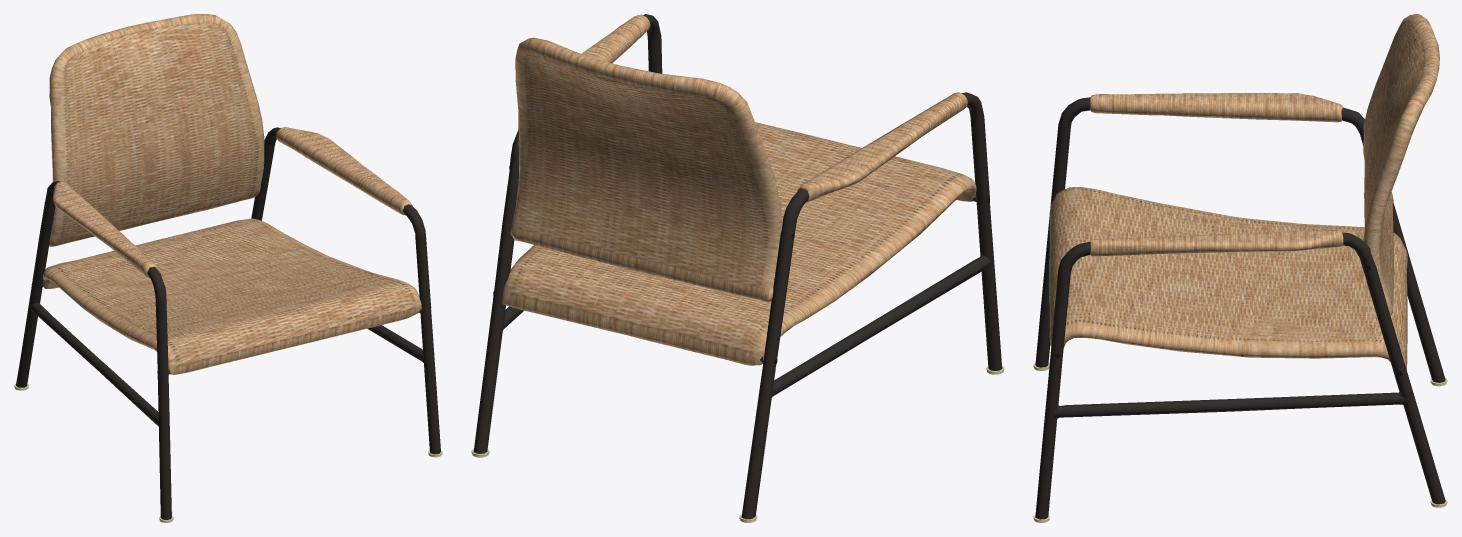
3 views of the same model, side by side, from view 1: azimuth 30°, elevation 25°; view 2: azimuth 150°, elevation 25°; view 3: azimuth 270°, elevation 25° (orthographic). The views are drawn at different scales.
Parts seen in each view (by area): view 1: ASY_ART_90434310_S01_NV01; view 2: ASY_ART_90434310_S01_NV01; view 3: ASY_ART_90434310_S01_NV01.
Part boxes in pixels (x1,y1,x2,y2): ASY_ART_90434310_S01_NV01: (14,14,442,522); ASY_ART_90434310_S01_NV01: (471,14,1004,522); ASY_ART_90434310_S01_NV01: (1033,14,1447,522).
Bounding box in the file's own units: 0.6678 × 0.7647 × 0.7352.
Materials: 1 (1 with a texture image).
